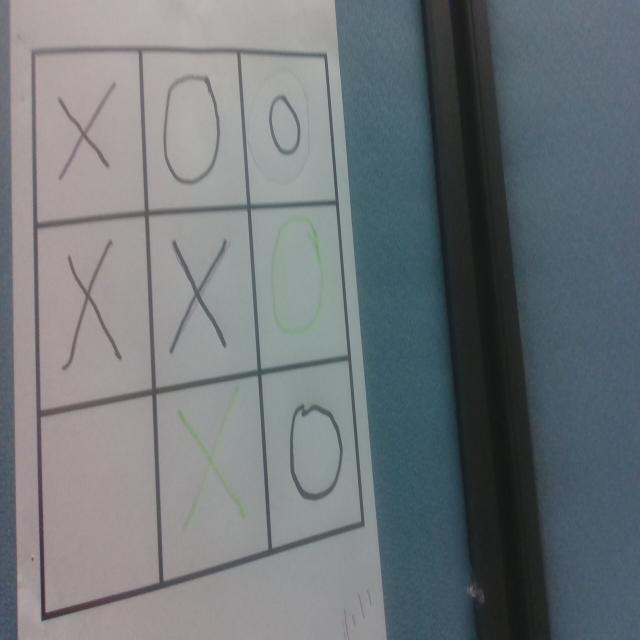null: (41, 398, 161, 618)
o: (269, 207, 348, 337), (162, 73, 222, 186), (289, 402, 345, 501), (268, 94, 304, 157)
table: (26, 34, 368, 616)
x: (181, 413, 241, 529), (66, 243, 118, 369), (172, 239, 226, 352), (60, 85, 113, 184)
